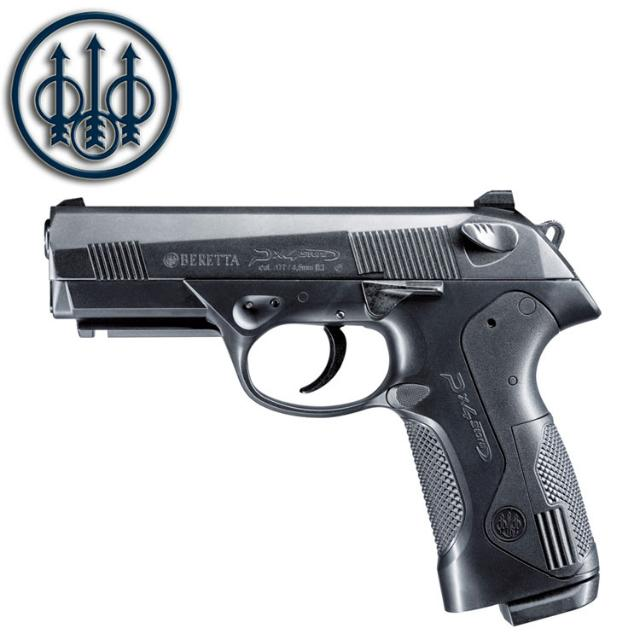handgun: (38, 186, 606, 628)
